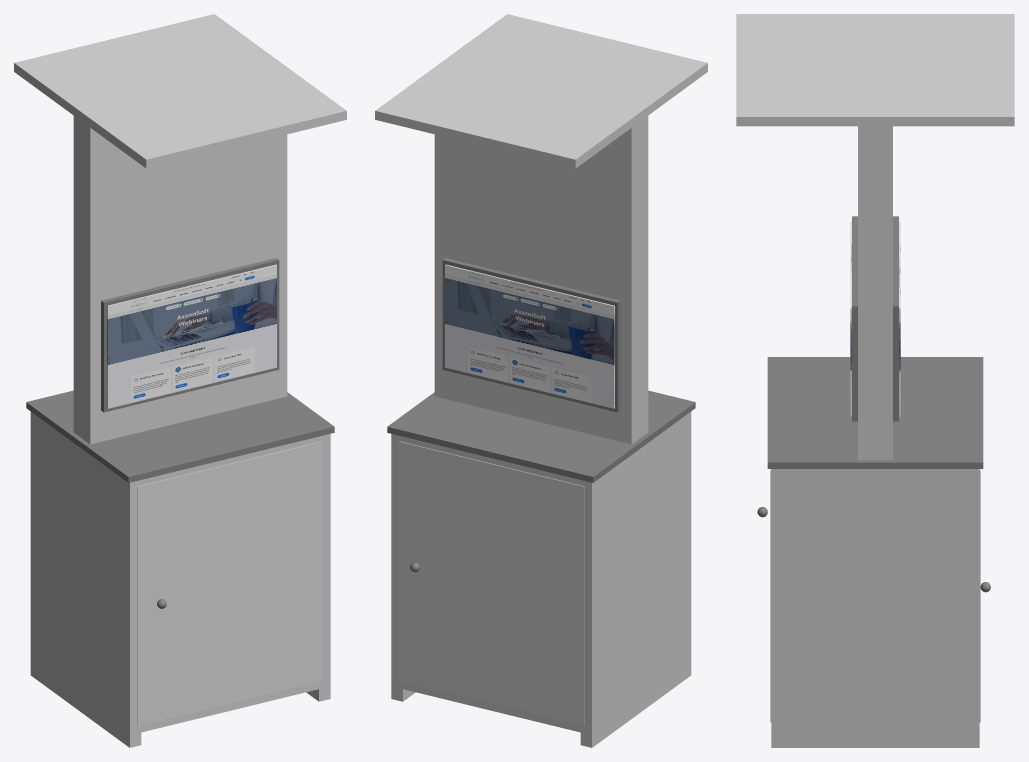
File: virtualWP.glb
The picture shows the model from 3 angles, left to right: view 1: azimuth 30°, elevation 25°; view 2: azimuth 150°, elevation 25°; view 3: azimuth 270°, elevation 25°; orthographic projection. The views are drawn at different scales.
Visible parts, largest first — view 1: Cube.6, Cube, Cube.1, Cube.5, Screen1, Cube.2, Cube.3, Monitor1, Cube.4; view 2: Cube.6, Cube, Cube.1, Cube.5, Screen1, Cube.2, Cube.3, Monitor1, Cube.4; view 3: Cube.4, Cube.1, Cube.2, Cube, Monitor1 (×2), Cube.6.
Boxes of the visible parts, x1,y1,x2,y2 form: Cube.6: (137, 441, 323, 725); Cube: (73, 116, 287, 444); Cube.1: (14, 14, 346, 168); Cube.5: (30, 411, 141, 747); Screen1: (107, 264, 276, 408); Cube.2: (26, 390, 334, 482); Cube.3: (131, 434, 328, 732); Monitor1: (101, 258, 279, 412); Cube.4: (306, 434, 330, 701); Cube.6: (398, 441, 584, 725); Cube: (434, 116, 648, 444); Cube.1: (375, 14, 707, 168); Cube.5: (580, 411, 691, 747); Screen1: (445, 264, 614, 408); Cube.2: (387, 390, 695, 482); Cube.3: (393, 434, 590, 732); Monitor1: (442, 258, 620, 412); Cube.4: (391, 434, 415, 701); Cube.4: (771, 469, 979, 747); Cube.1: (736, 14, 1014, 126); Cube.2: (767, 357, 983, 468); Cube: (858, 126, 892, 460); Monitor1 (×2): (852, 216, 898, 421); Cube.6: (770, 469, 980, 722).
Size of the model in its own units: 0.7198 by 2 by 0.8.
Materials: 4 (1 with a texture image).
